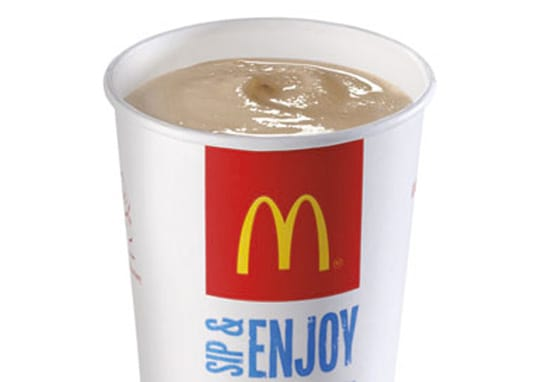mcdonalds: (234, 190, 333, 279)
